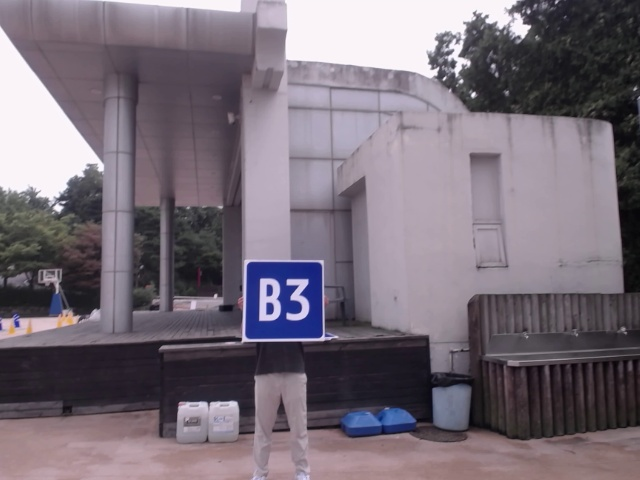delivery_b3: (242, 259, 325, 342)
